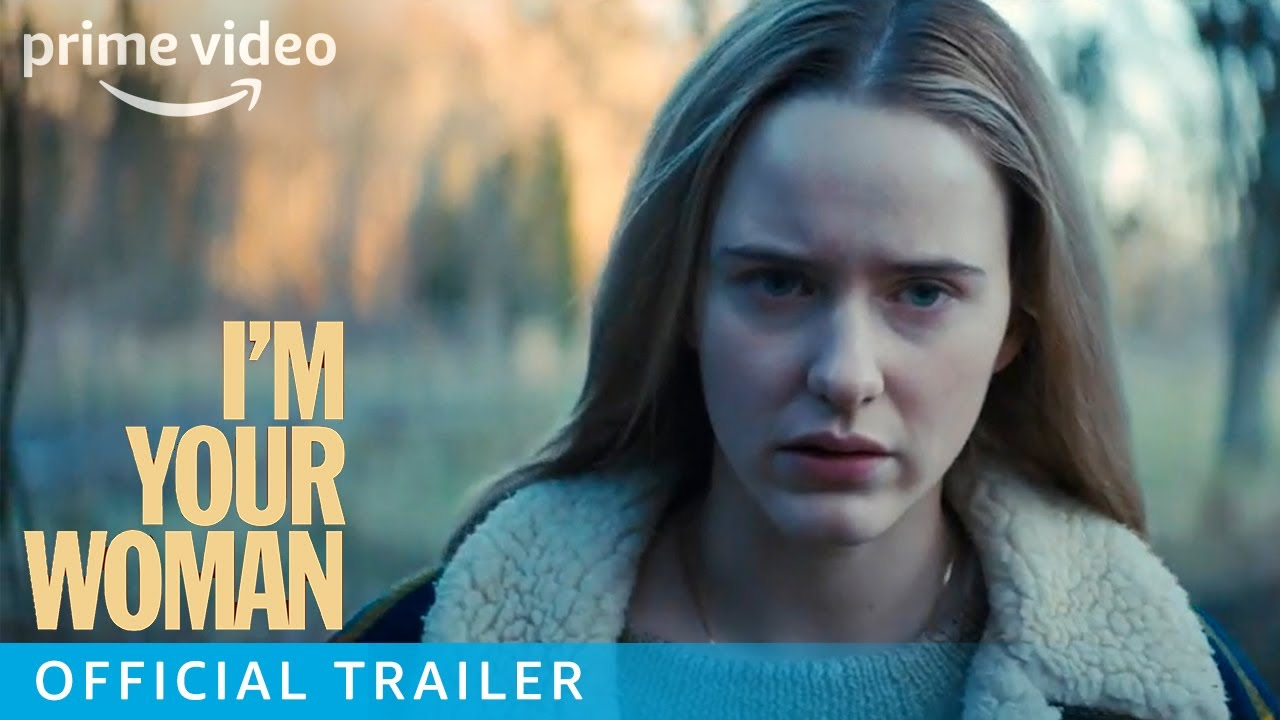Without Helmet: (617, 1, 1077, 539)
